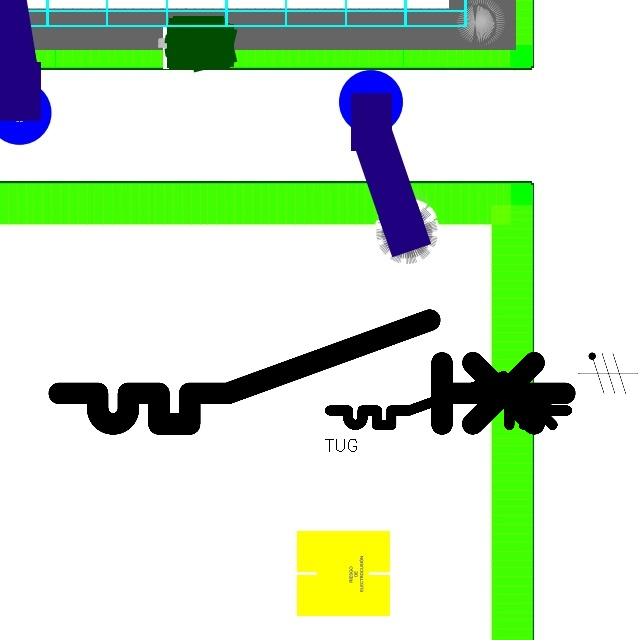interruptor_termomagnetico: (46, 307, 577, 437), (324, 370, 573, 431)
